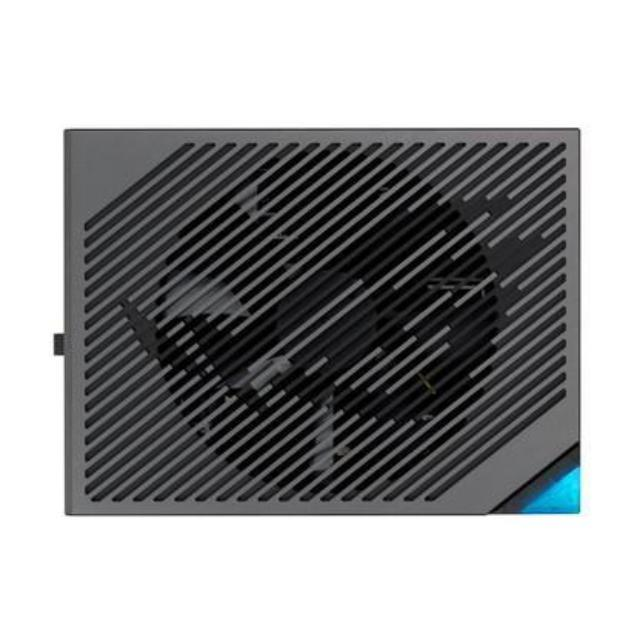PSU: (49, 116, 597, 542)
